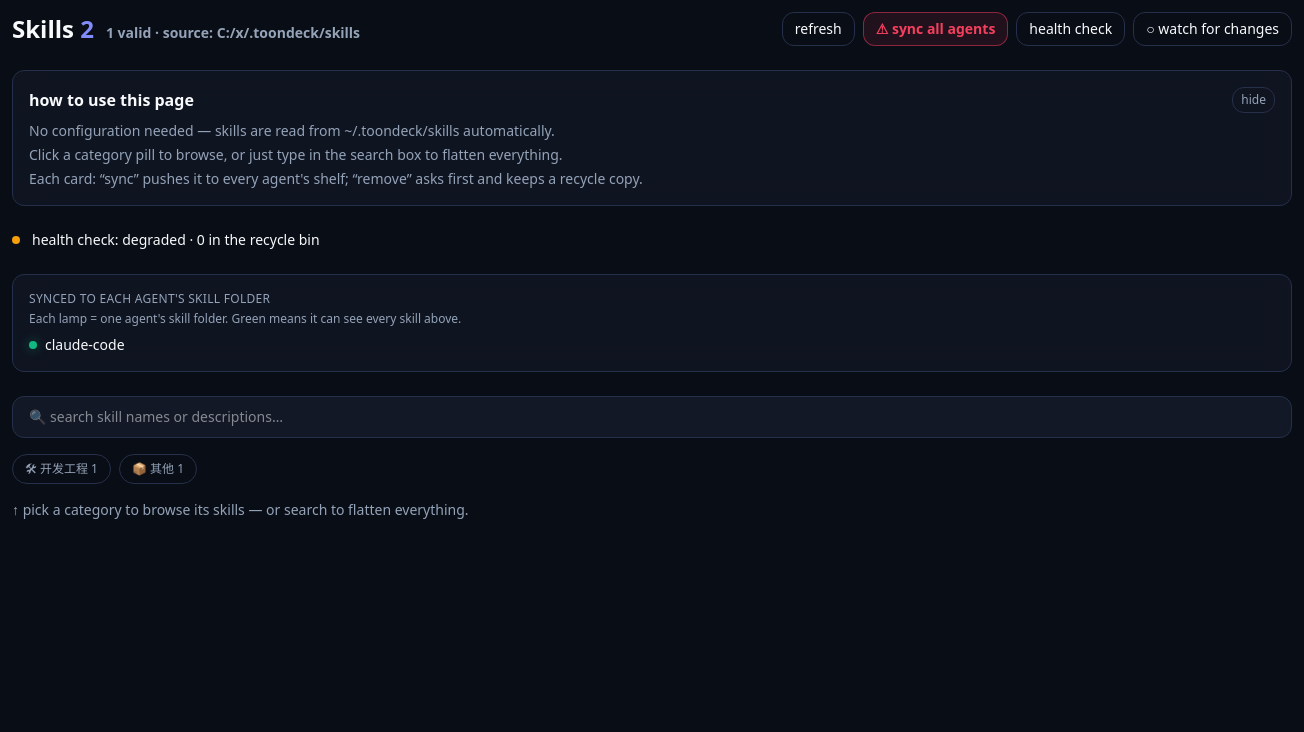
SkillsPanel card actions (UX-017) › details view exposes folder name and validation errors
Click the button with test id "category-pill-📦 其他": (158, 469) [119,454,197,484]
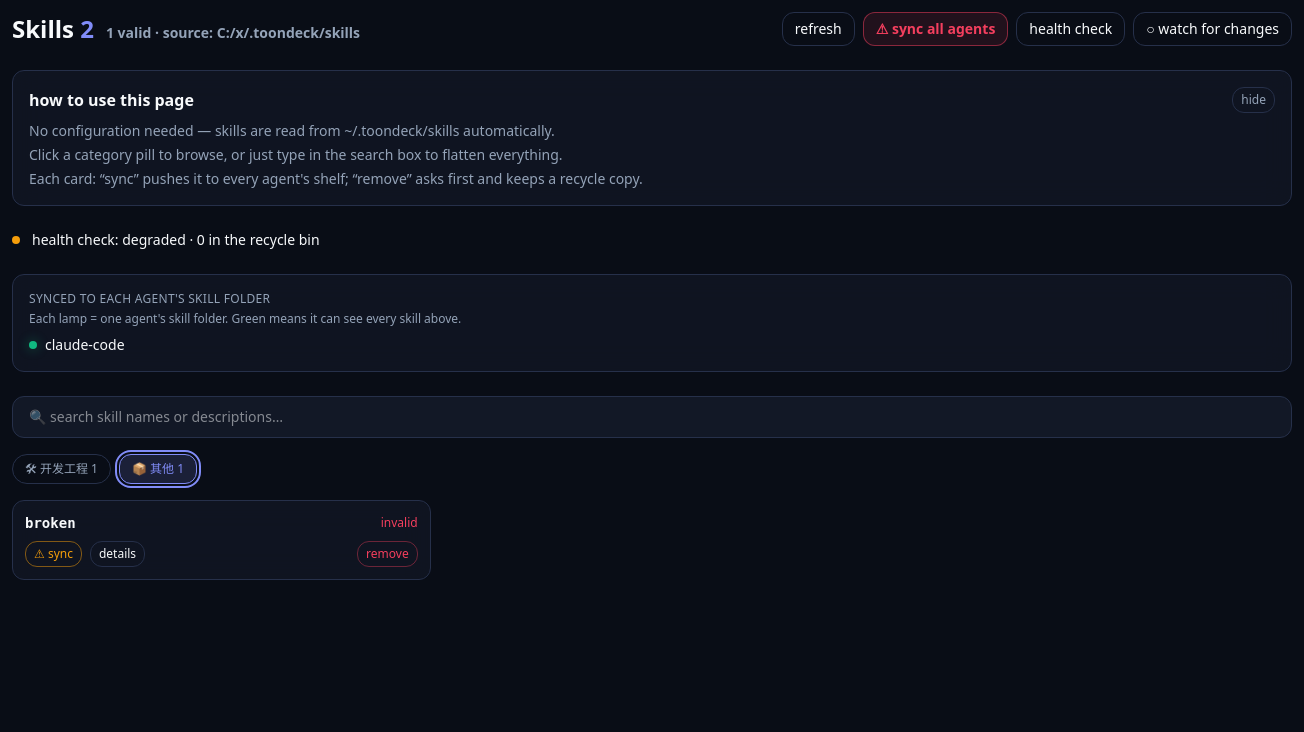
Click the button with test id "skill-details-broken": (118, 554) [90,541,145,567]
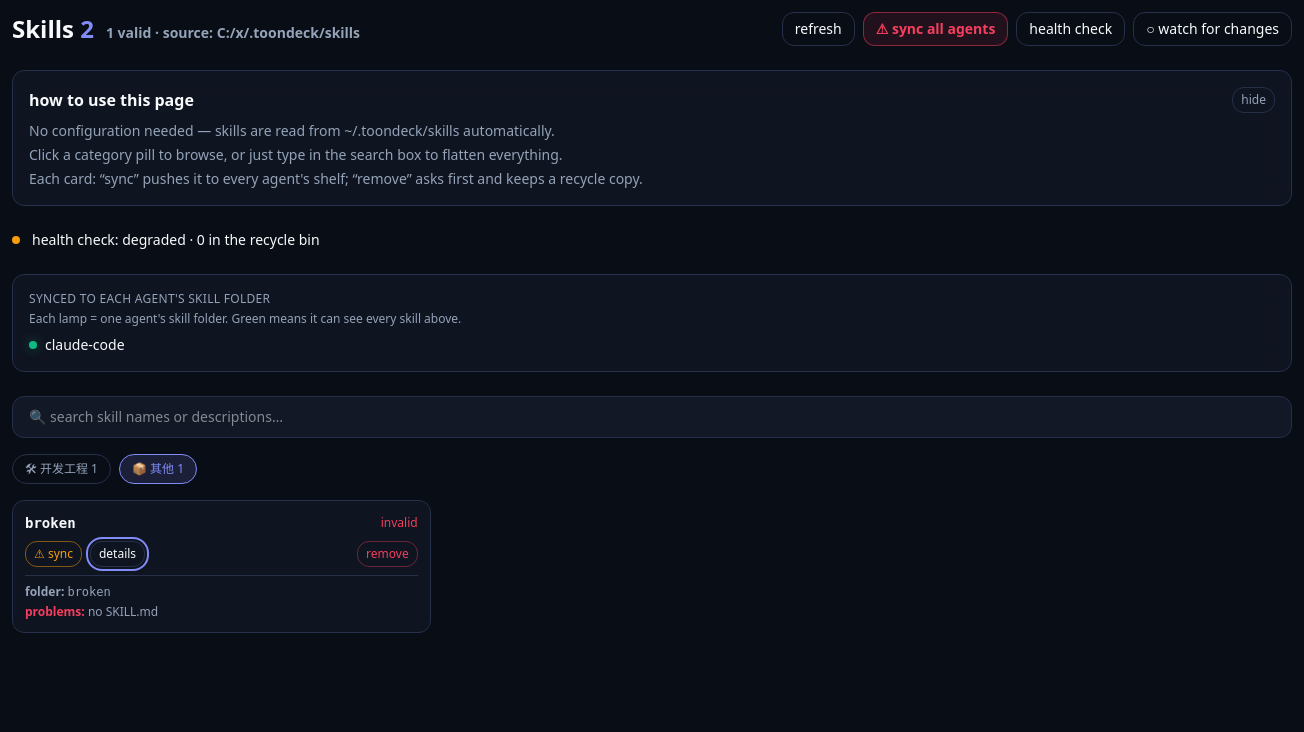
Expected: the text "broken" in the row of "invalid" is shown, [25,515,76,531]
Expected: the text "no SKILL.md" is shown, [88,603,158,620]
